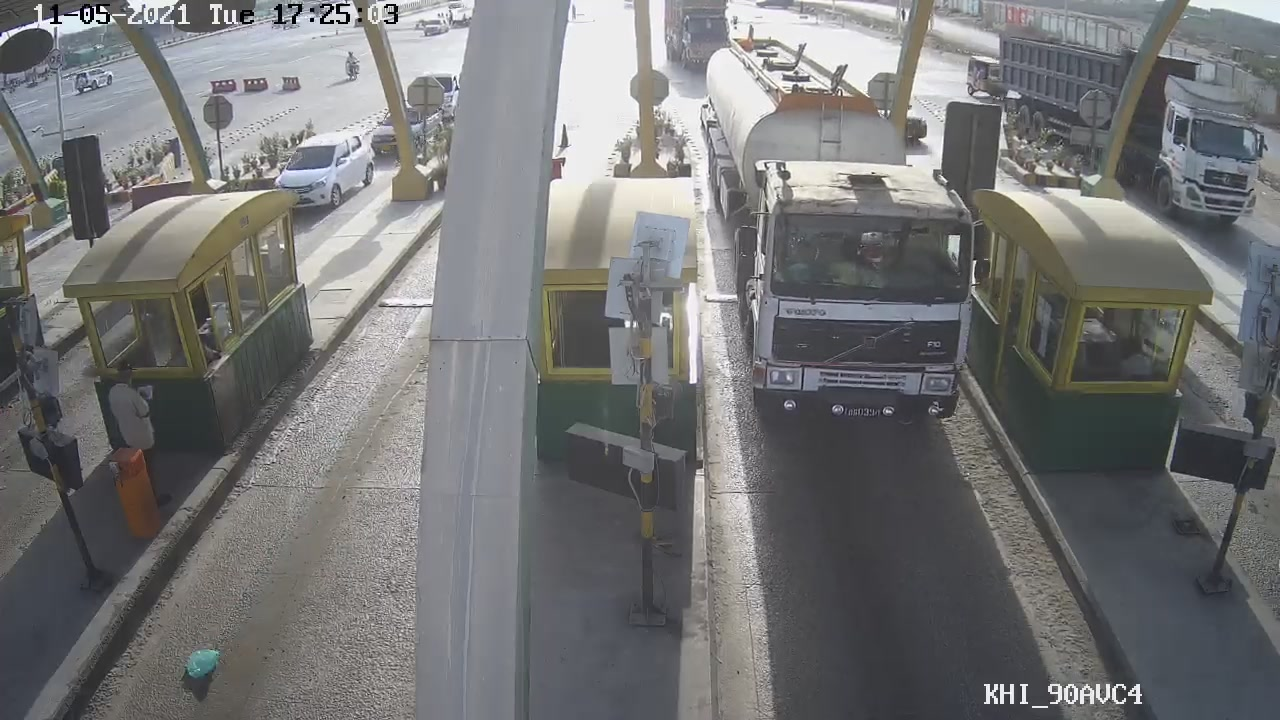F6: (704, 32, 969, 431)
